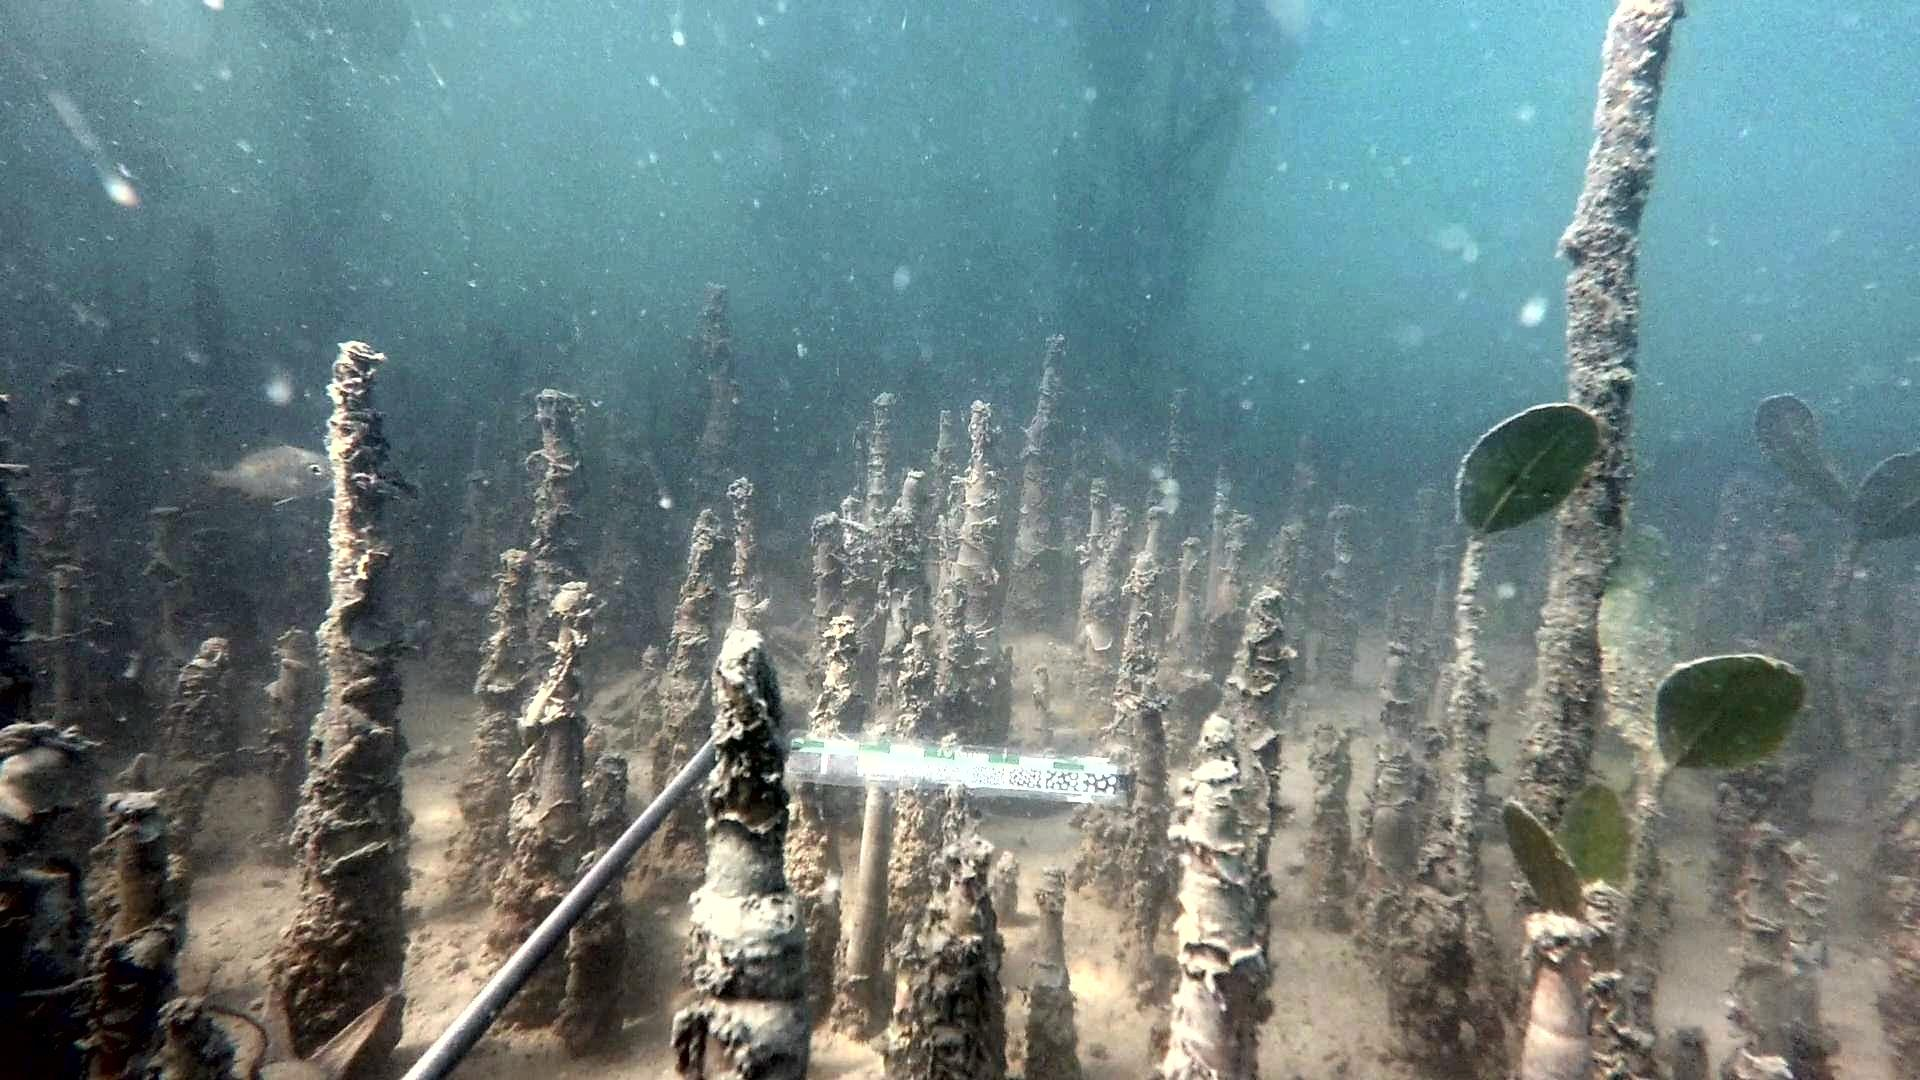gerres: (174, 423, 332, 512)
